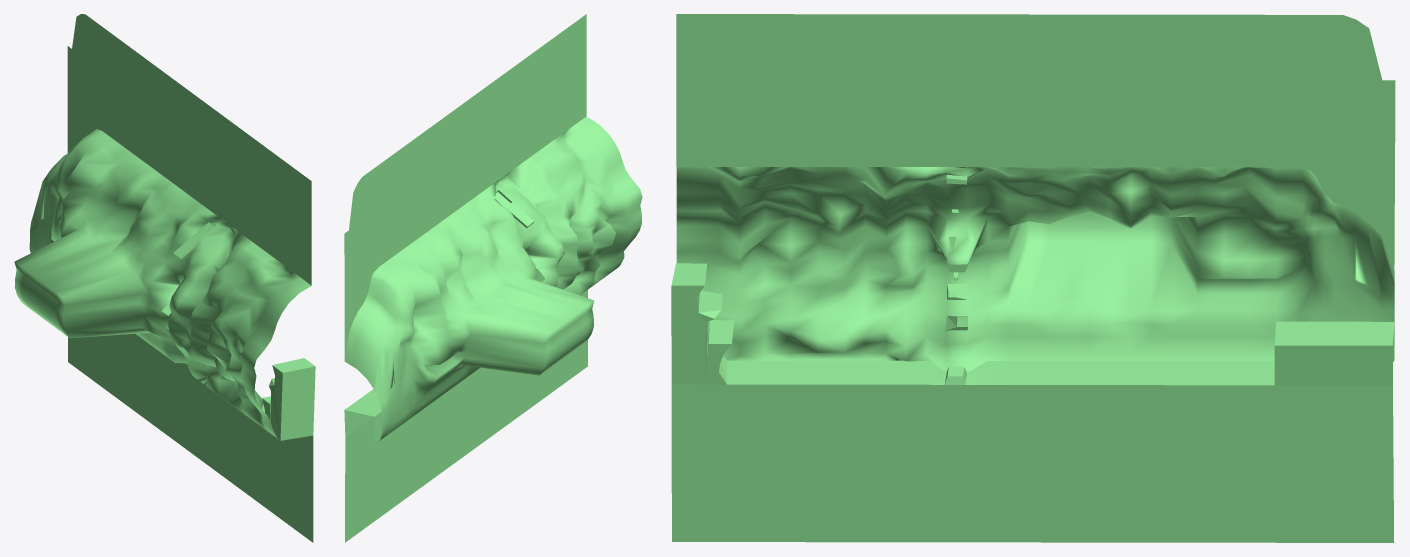
Rendered from troll cave.FBX.
3 views of the same model, side by side, from view 1: azimuth 30°, elevation 25°; view 2: azimuth 150°, elevation 25°; view 3: azimuth 270°, elevation 25° (orthographic). The views are drawn at different scales.
Parts seen in each view (by area): view 1: Troll Cave Mesh; view 2: Troll Cave Mesh; view 3: Troll Cave Mesh.
Boxes of the visible parts, x1=… form: Troll Cave Mesh: x1=14, y1=14, x2=315, y2=542; Troll Cave Mesh: x1=344, y1=14, x2=642, y2=542; Troll Cave Mesh: x1=671, y1=14, x2=1395, y2=542.
Size of the model in its own units: 2171 by 5610 by 6972.
